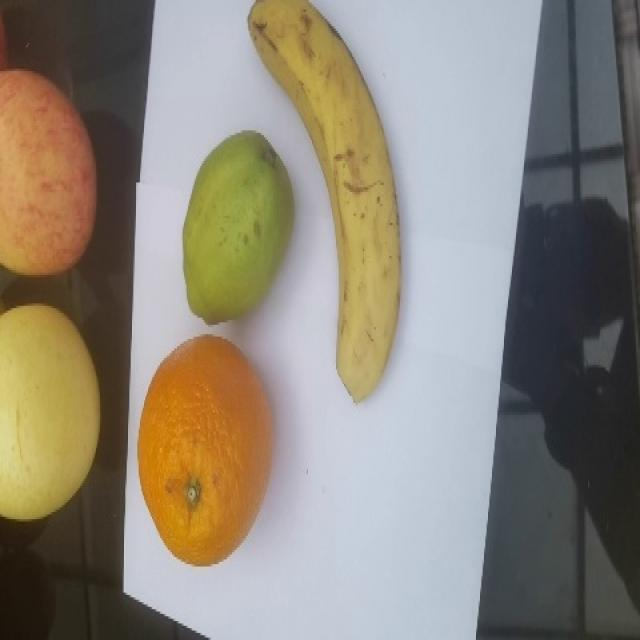Apple: (0, 66, 98, 277)
Banana: (246, 0, 401, 403)
Orange: (137, 333, 273, 566)
